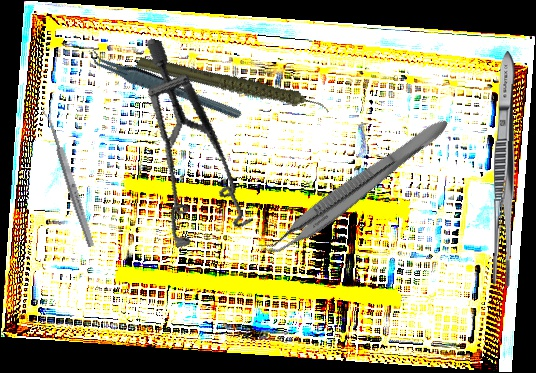Dressing Forceps: (490, 50, 519, 290)
Handpiece: (134, 19, 332, 156)
Speculum: (94, 37, 294, 266)
Surgical Spoon: (41, 106, 97, 248)
Tissue Forceps: (255, 105, 453, 269), (83, 33, 244, 138)
